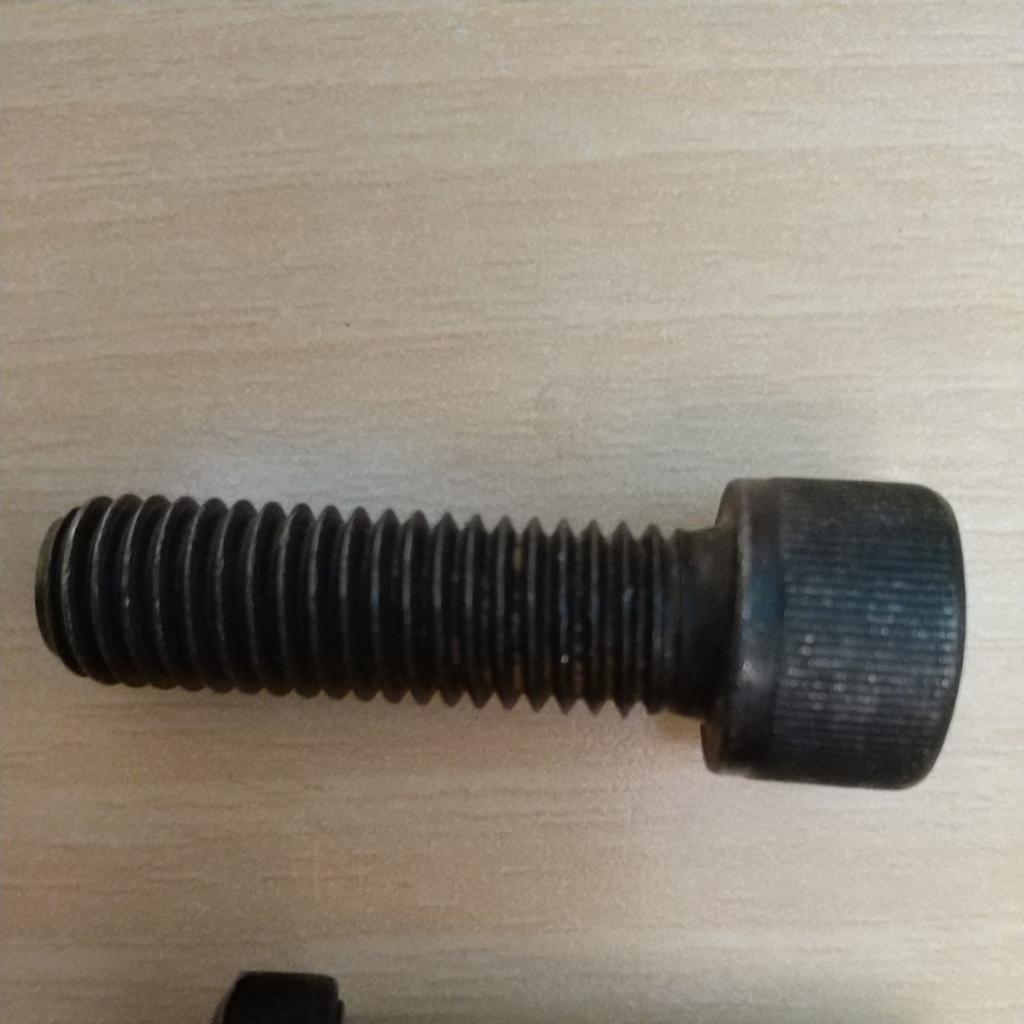screwtype1black: (21, 454, 975, 804)
